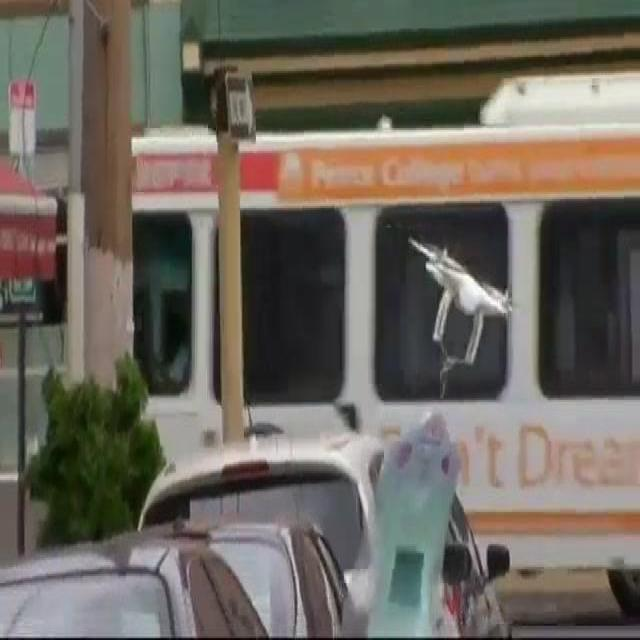UAV: (408, 238, 512, 366)
